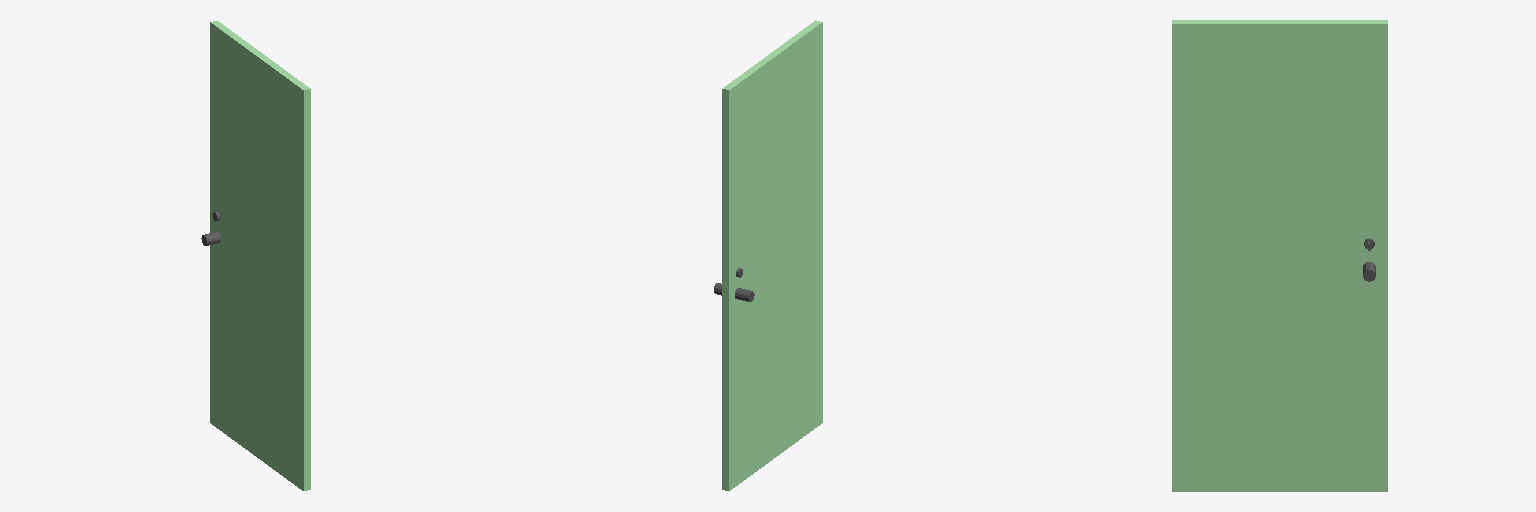
robot.urdf — room602-door-right_fixed:
<?xml version="1.0"?>
<robot name="room602-door-right_fixed"
       xmlns:xi="http://www.w3.org/2001/XInclude">
  <gazebo>
    <static>false</static>
  </gazebo>
  <link name="ROOM602-DOOR-RIGHT-BODYSET2_link">
    <visual>
      <origin xyz="0 0 0" rpy="0 -0 0"/>
      <geometry>
        <mesh filename="model://room602-door-right/meshes/ROOM602-DOOR-RIGHT-BODYSET2_link_mesh.dae" scale="1 1 1" />
      </geometry>
    </visual>
    <collision>
      <origin xyz="0 0 0" rpy="0 -0 0"/>
      <geometry>
        <mesh filename="model://room602-door-right/meshes/ROOM602-DOOR-RIGHT-BODYSET2_link_mesh.dae" scale="1 1 1" />
      </geometry>
    </collision>
    <inertial>
      <mass value="0.001" />
      <origin xyz="0 0 0" rpy="0 -0 0"/>
      <inertia ixx="1e-03" ixy="0" ixz="0" iyy="1e-03" iyz="0" izz="1e-03"/>
    </inertial>
  </link>
  <gazebo reference="ROOM602-DOOR-RIGHT-BODYSET2_link">
    <mu1>0.9</mu1>
    <mu2>0.9</mu2>
  </gazebo>
  <link name="ROOM602-DOOR-RIGHT-BODYSET3_link">
    <visual>
      <origin xyz="-0.017 0.017 0" rpy="0 -0 0"/>
      <geometry>
        <mesh filename="model://room602-door-right/meshes/ROOM602-DOOR-RIGHT-BODYSET3_link_mesh.dae" scale="1 1 1" />
      </geometry>
    </visual>
    <collision>
      <origin xyz="-0.017 0.017 0" rpy="0 -0 0"/>
      <geometry>
        <mesh filename="model://room602-door-right/meshes/ROOM602-DOOR-RIGHT-BODYSET3_link_mesh.dae" scale="1 1 1" />
      </geometry>
    </collision>
    <inertial>
      <mass value="0.001" />
      <origin xyz="0 0 0" rpy="0 -0 0"/>
      <inertia ixx="1e-03" ixy="0" ixz="0" iyy="1e-03" iyz="0" izz="1e-03"/>
    </inertial>
  </link>
  <gazebo reference="ROOM602-DOOR-RIGHT-BODYSET3_link">
    <mu1>0.9</mu1>
    <mu2>0.9</mu2>
  </gazebo>
  <link name="ROOM602-DOOR-RIGHT-BODYSET5_link">
    <visual>
      <origin xyz="-0.088 0.713 0.91" rpy="0 -0 0"/>
      <geometry>
        <mesh filename="model://room602-door-right/meshes/ROOM602-DOOR-RIGHT-BODYSET5_link_mesh.dae" scale="1 1 1" />
      </geometry>
    </visual>
    <collision>
      <origin xyz="-0.088 0.713 0.91" rpy="0 -0 0"/>
      <geometry>
        <mesh filename="model://room602-door-right/meshes/ROOM602-DOOR-RIGHT-BODYSET5_link_mesh.dae" scale="1 1 1" />
      </geometry>
    </collision>
    <inertial>
      <mass value="0.001" />
      <origin xyz="0 0 0" rpy="0 -0 0"/>
      <inertia ixx="1e-03" ixy="0" ixz="0" iyy="1e-03" iyz="0" izz="1e-03"/>
    </inertial>
  </link>
  <gazebo reference="ROOM602-DOOR-RIGHT-BODYSET5_link">
    <mu1>0.9</mu1>
    <mu2>0.9</mu2>
  </gazebo>
  <link name="ROOM602-DOOR-RIGHT-BODYSET4_link">
    <visual>
      <origin xyz="0.0345 0.713 1.01" rpy="0 -0 0"/>
      <geometry>
        <mesh filename="model://room602-door-right/meshes/ROOM602-DOOR-RIGHT-BODYSET4_link_mesh.dae" scale="1 1 1" />
      </geometry>
    </visual>
    <collision>
      <origin xyz="0.0345 0.713 1.01" rpy="0 -0 0"/>
      <geometry>
        <mesh filename="model://room602-door-right/meshes/ROOM602-DOOR-RIGHT-BODYSET4_link_mesh.dae" scale="1 1 1" />
      </geometry>
    </collision>
    <inertial>
      <mass value="0.001" />
      <origin xyz="0.088 -0.713 -0.91" rpy="0 -0 0"/>
      <inertia ixx="1e-03" ixy="0" ixz="0" iyy="1e-03" iyz="0" izz="1e-03"/>
    </inertial>
  </link>
  <gazebo reference="ROOM602-DOOR-RIGHT-BODYSET4_link">
    <mu1>0.9</mu1>
    <mu2>0.9</mu2>
  </gazebo>
  <joint name="DOOR" type="revolute">
    <parent link="ROOM602-DOOR-RIGHT-BODYSET2_link"/>
    <child  link="ROOM602-DOOR-RIGHT-BODYSET3_link"/>
    <origin xyz="-0.017 0.017 0" rpy="0 -0 0 "/>
    <axis   xyz="0 0 -1"/>
    <limit lower="0" upper="1.5708" effort="100" velocity="0.5" />
    <dynamics damping="0.2" friction="0" />
  </joint>
  <transmission type="pr2_mechanism_model/SimpleTransmission" name="DOOR_trans" >
    <actuator name="DOOR_motor" />
    <joint name="DOOR" />
    <mechanicalReduction>1</mechanicalReduction>
  </transmission>
  <gazebo reference="DOOR">
    <cfmDamping>0.4</cfmDamping>
  </gazebo>
  <joint name="KNOB" type="revolute">
    <parent link="ROOM602-DOOR-RIGHT-BODYSET3_link"/>
    <child  link="ROOM602-DOOR-RIGHT-BODYSET5_link"/>
    <origin xyz="-0.088 0.713 0.91" rpy="0 -0 0 "/>
    <axis   xyz="1 0 0"/>
    <limit lower="0" upper="1.5708" effort="100" velocity="0.5" />
    <dynamics damping="0.2" friction="0" />
  </joint>
  <transmission type="pr2_mechanism_model/SimpleTransmission" name="KNOB_trans" >
    <actuator name="KNOB_motor" />
    <joint name="KNOB" />
    <mechanicalReduction>1</mechanicalReduction>
  </transmission>
  <gazebo reference="KNOB">
    <cfmDamping>0.4</cfmDamping>
  </gazebo>
  <joint name="LOCK" type="revolute">
    <parent link="ROOM602-DOOR-RIGHT-BODYSET5_link"/>
    <child  link="ROOM602-DOOR-RIGHT-BODYSET4_link"/>
    <origin xyz="0.0345 0.713 1.01" rpy="0 -0 0 "/>
    <axis   xyz="1 0 0"/>
    <limit lower="-1.5708" upper="0" effort="100" velocity="0.5" />
    <dynamics damping="0.2" friction="0" />
  </joint>
  <transmission type="pr2_mechanism_model/SimpleTransmission" name="LOCK_trans" >
    <actuator name="LOCK_motor" />
    <joint name="LOCK" />
    <mechanicalReduction>1</mechanicalReduction>
  </transmission>
  <gazebo reference="LOCK">
    <cfmDamping>0.4</cfmDamping>
  </gazebo>
  <!-- Used for fixing robot to Gazebo 'base_link' -->
  <link name="world"/>
  <joint name="fixed" type="fixed">
    <parent link="world"/>
    <child link="ROOM602-DOOR-RIGHT-BODYSET2_link"/>
  </joint>
</robot>

--- Facts derived from the render (not from the file) ---
3 views of the same robot in one strip: view 1: azimuth 30°, elevation 25°; view 2: azimuth 150°, elevation 25°; view 3: azimuth 270°, elevation 25° (orthographic).
Model room602-door-right_fixed with 5 links and 4 joints (3 revolute, 1 fixed), rooted at world, posed all joints at 0.
Visible links, largest first — view 1: ROOM602-DOOR-RIGHT-BODYSET3_link; view 2: ROOM602-DOOR-RIGHT-BODYSET3_link; view 3: ROOM602-DOOR-RIGHT-BODYSET3_link.
Boxes of the visible links, bbox=[...] form: ROOM602-DOOR-RIGHT-BODYSET3_link: bbox=[210, 21, 310, 490]; ROOM602-DOOR-RIGHT-BODYSET3_link: bbox=[722, 20, 822, 490]; ROOM602-DOOR-RIGHT-BODYSET3_link: bbox=[1172, 20, 1387, 491].
Size in the robot's own frame: 0.175 by 0.8 by 1.9 metres.
Meshes: 4 distinct files referenced, 4 mesh visuals loaded (4 Collada DAE).